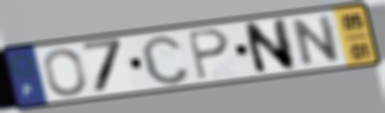7: (80, 37, 126, 97)
C: (138, 32, 192, 87)
N: (240, 17, 298, 77), (291, 13, 342, 69)
O: (41, 46, 89, 98)
P: (185, 27, 233, 83)
